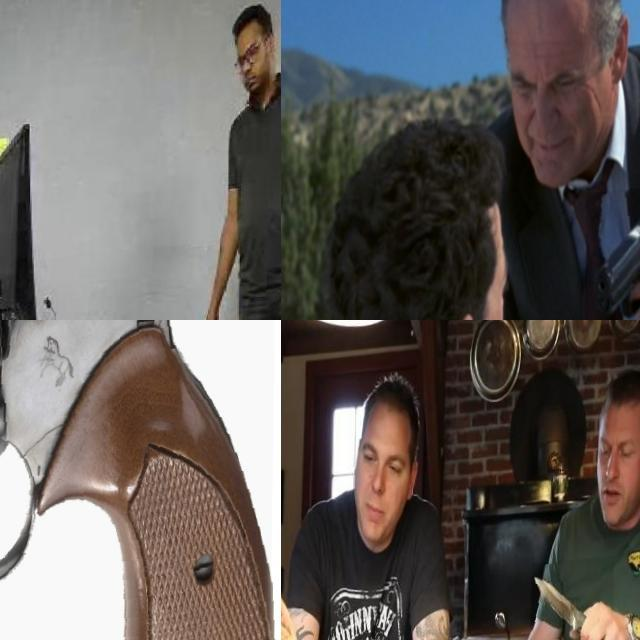-: (531, 564, 614, 640)
gun-knife-thesis - v11 Yolov5 augmented: (0, 320, 281, 640), (585, 191, 640, 320)
